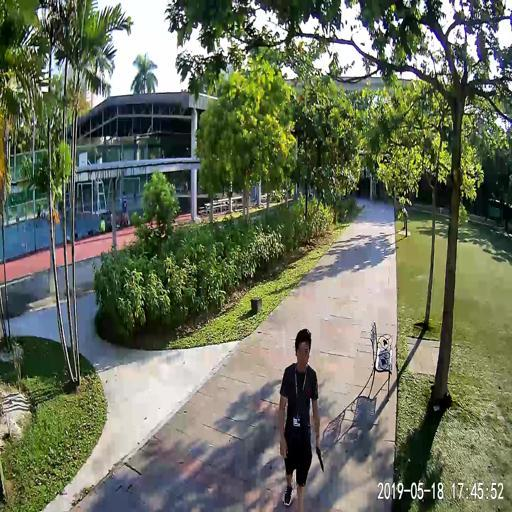Handgun: (314, 445, 323, 471)
